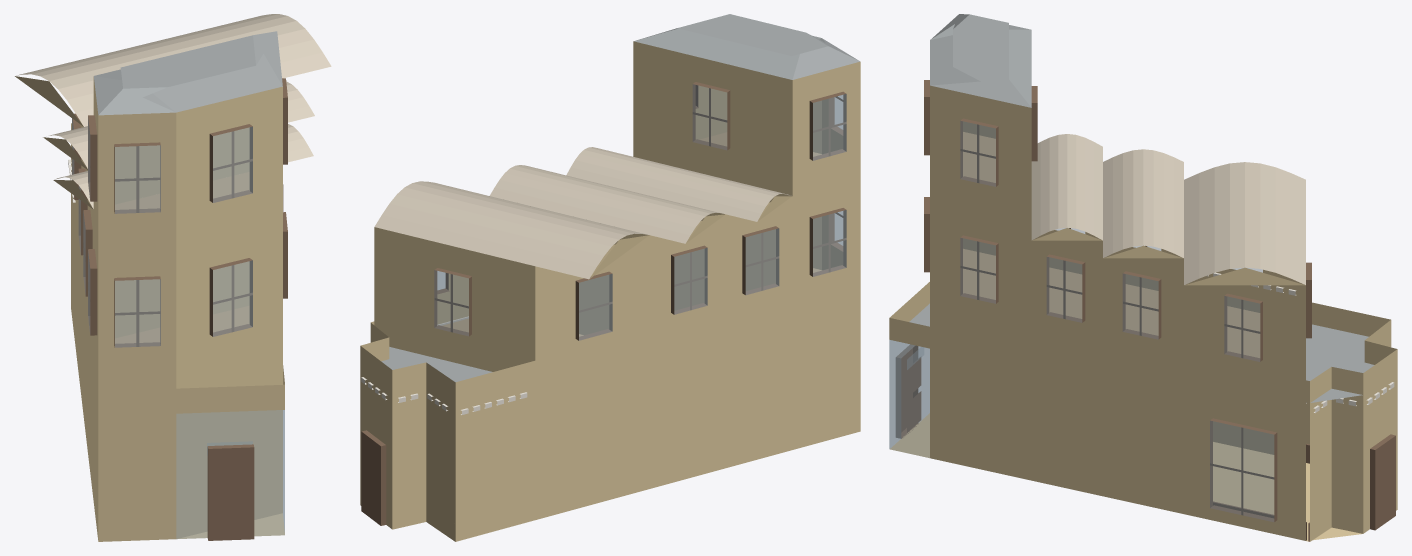
3 views of the same model, side by side, from view 1: azimuth 30°, elevation 25°; view 2: azimuth 150°, elevation 25°; view 3: azimuth 270°, elevation 25° (orthographic). The views are drawn at different scales.
Parts seen in each view (by area): view 1: N-40-42.rear_three_storey, N-40-42.vitrine, N-40-42.middle_vault, N-40-42.old_vault_zone, N-40-42.basement_bays, N-40-42.street_magasin; view 2: N-40-42.middle_vault, N-40-42.rear_three_storey, N-40-42.street_magasin, N-40-42.basement_bays, N-40-42.old_vault_zone; view 3: N-40-42.rear_three_storey, N-40-42.middle_vault, N-40-42.basement_bays, N-40-42.old_vault_zone, N-40-42.street_magasin, N-40-42.vitrine.
Part boxes in pixels (left/top/right/bottom): N-40-42.rear_three_storey: left=88, top=31, right=287, bottom=541; N-40-42.vitrine: left=176, top=365, right=284, bottom=540; N-40-42.middle_vault: left=15, top=14, right=331, bottom=417; N-40-42.old_vault_zone: left=53, top=124, right=313, bottom=499; N-40-42.basement_bays: left=43, top=81, right=314, bottom=463; N-40-42.street_magasin: left=68, top=123, right=76, bottom=351; N-40-42.middle_vault: left=374, top=181, right=649, bottom=519; N-40-42.rear_three_storey: left=633, top=14, right=860, bottom=449; N-40-42.street_magasin: left=360, top=321, right=535, bottom=541; N-40-42.basement_bays: left=489, top=165, right=725, bottom=488; N-40-42.old_vault_zone: left=566, top=147, right=792, bottom=467; N-40-42.rear_three_storey: left=924, top=14, right=1037, bottom=480; N-40-42.middle_vault: left=1184, top=162, right=1311, bottom=540; N-40-42.basement_bays: left=1103, top=149, right=1183, bottom=513; N-40-42.old_vault_zone: left=1031, top=134, right=1102, bottom=496; N-40-42.street_magasin: left=1306, top=302, right=1397, bottom=541; N-40-42.vitrine: left=889, top=282, right=929, bottom=458.
Size of what is drawn, in the model's own units: 9.11 by 10.55 by 12.6.
